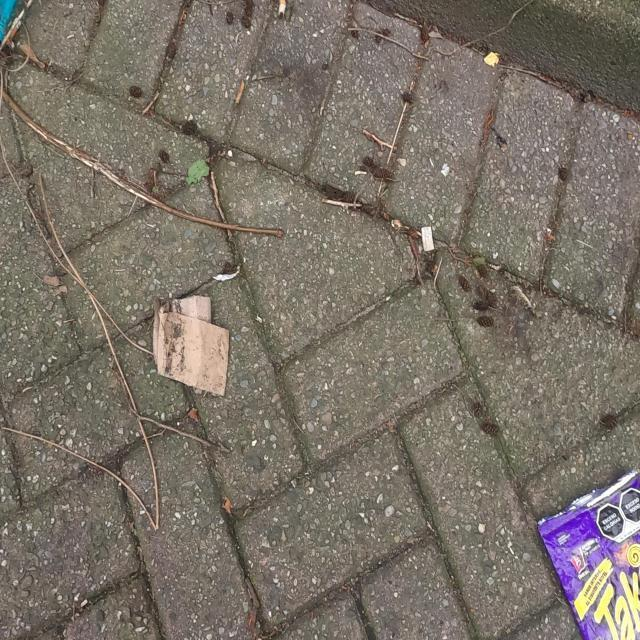Plastic: (534, 465, 640, 639), (152, 291, 230, 398)
